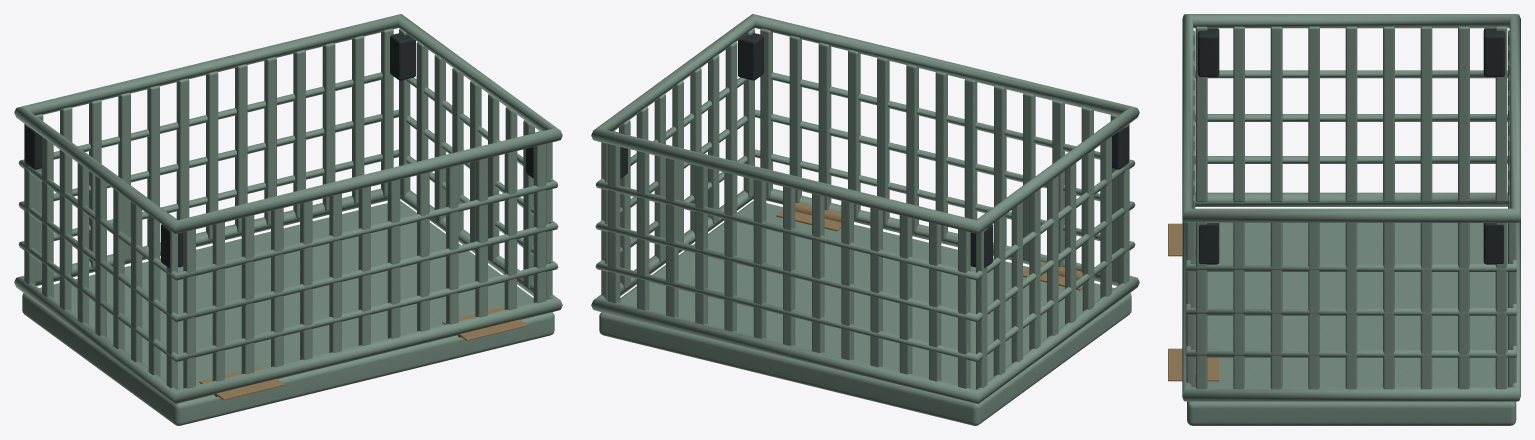
3 renders of one model, left to right at view 1: azimuth 30°, elevation 25°; view 2: azimuth 150°, elevation 25°; view 3: azimuth 270°, elevation 25°, orthographic. The views are drawn at different scales.
Parts seen in each view (by area): view 1: Crate hinged base, Stiff crate border.001, Stiff crate border, Horizontal perforated-panel web.002, Horizontal perforated-panel web.001, Horizontal perforated-panel web, Open crate vertical web.004, Open crate vertical web.014, Open crate vertical web.024, Open crate vertical web.021, Open crate vertical web.011, Open crate vertical web.013 (+42 smaller); view 2: Crate hinged base, Stiff crate border.001, Stiff crate border, Horizontal perforated-panel web.002, Horizontal perforated-panel web.001, Horizontal perforated-panel web, Open crate vertical web.005, Open crate vertical web.015, Open crate vertical web.025, Open crate vertical web.020, Open crate vertical web.010, Open crate vertical web.012 (+40 smaller); view 3: Crate hinged base, Stiff crate border.001, Stiff crate border, Horizontal perforated-panel web.002, Horizontal perforated-panel web.001, Horizontal perforated-panel web, Open crate end web.004, Open crate end web.008, Open crate end web.012, Open crate end web.005, Open crate end web.009, Open crate end web.013 (+20 smaller).
Boxes of the visible parts, x1=… form: Crate hinged base: x1=22, y1=201, x2=554, y2=425; Stiff crate border.001: x1=14, y1=14, x2=562, y2=233; Stiff crate border: x1=14, y1=188, x2=562, y2=403; Horizontal perforated-panel web.002: x1=18, y1=72, x2=558, y2=280; Horizontal perforated-panel web.001: x1=18, y1=109, x2=558, y2=322; Horizontal perforated-panel web: x1=18, y1=149, x2=558, y2=361; Open crate vertical web.004: x1=241, y1=215, x2=254, y2=374; Open crate vertical web.014: x1=387, y1=179, x2=400, y2=338; Open crate vertical web.024: x1=533, y1=144, x2=546, y2=303; Open crate vertical web.021: x1=322, y1=42, x2=335, y2=211; Open crate vertical web.011: x1=176, y1=78, x2=189, y2=219; Open crate vertical web.013: x1=206, y1=71, x2=218, y2=239; Crate hinged base: x1=599, y1=201, x2=1131, y2=425; Stiff crate border.001: x1=591, y1=14, x2=1139, y2=233; Stiff crate border: x1=591, y1=188, x2=1139, y2=403; Horizontal perforated-panel web.002: x1=595, y1=72, x2=1135, y2=280; Horizontal perforated-panel web.001: x1=595, y1=109, x2=1135, y2=322; Horizontal perforated-panel web: x1=595, y1=149, x2=1135, y2=361; Open crate vertical web.005: x1=899, y1=215, x2=912, y2=374; Open crate vertical web.015: x1=753, y1=179, x2=766, y2=338; Open crate vertical web.025: x1=607, y1=144, x2=620, y2=303; Open crate vertical web.020: x1=818, y1=42, x2=831, y2=210; Open crate vertical web.010: x1=964, y1=78, x2=977, y2=219; Open crate vertical web.012: x1=935, y1=71, x2=947, y2=239; Crate hinged base: x1=1187, y1=223, x2=1516, y2=425; Stiff crate border.001: x1=1182, y1=14, x2=1520, y2=222; Stiff crate border: x1=1182, y1=192, x2=1520, y2=401; Horizontal perforated-panel web.002: x1=1185, y1=70, x2=1517, y2=271; Horizontal perforated-panel web.001: x1=1185, y1=114, x2=1517, y2=315; Horizontal perforated-panel web: x1=1185, y1=156, x2=1517, y2=357; Open crate end web.004: x1=1270, y1=26, x2=1282, y2=202; Open crate end web.008: x1=1345, y1=26, x2=1357, y2=202; Open crate end web.012: x1=1420, y1=26, x2=1432, y2=202; Open crate end web.005: x1=1270, y1=222, x2=1282, y2=389; Open crate end web.009: x1=1345, y1=222, x2=1357, y2=389; Open crate end web.013: x1=1420, y1=222, x2=1432, y2=389.
Size of the model in its own units: 0.4783 by 0.245 by 0.3577.
Materials: 3 (3 with a texture image).
